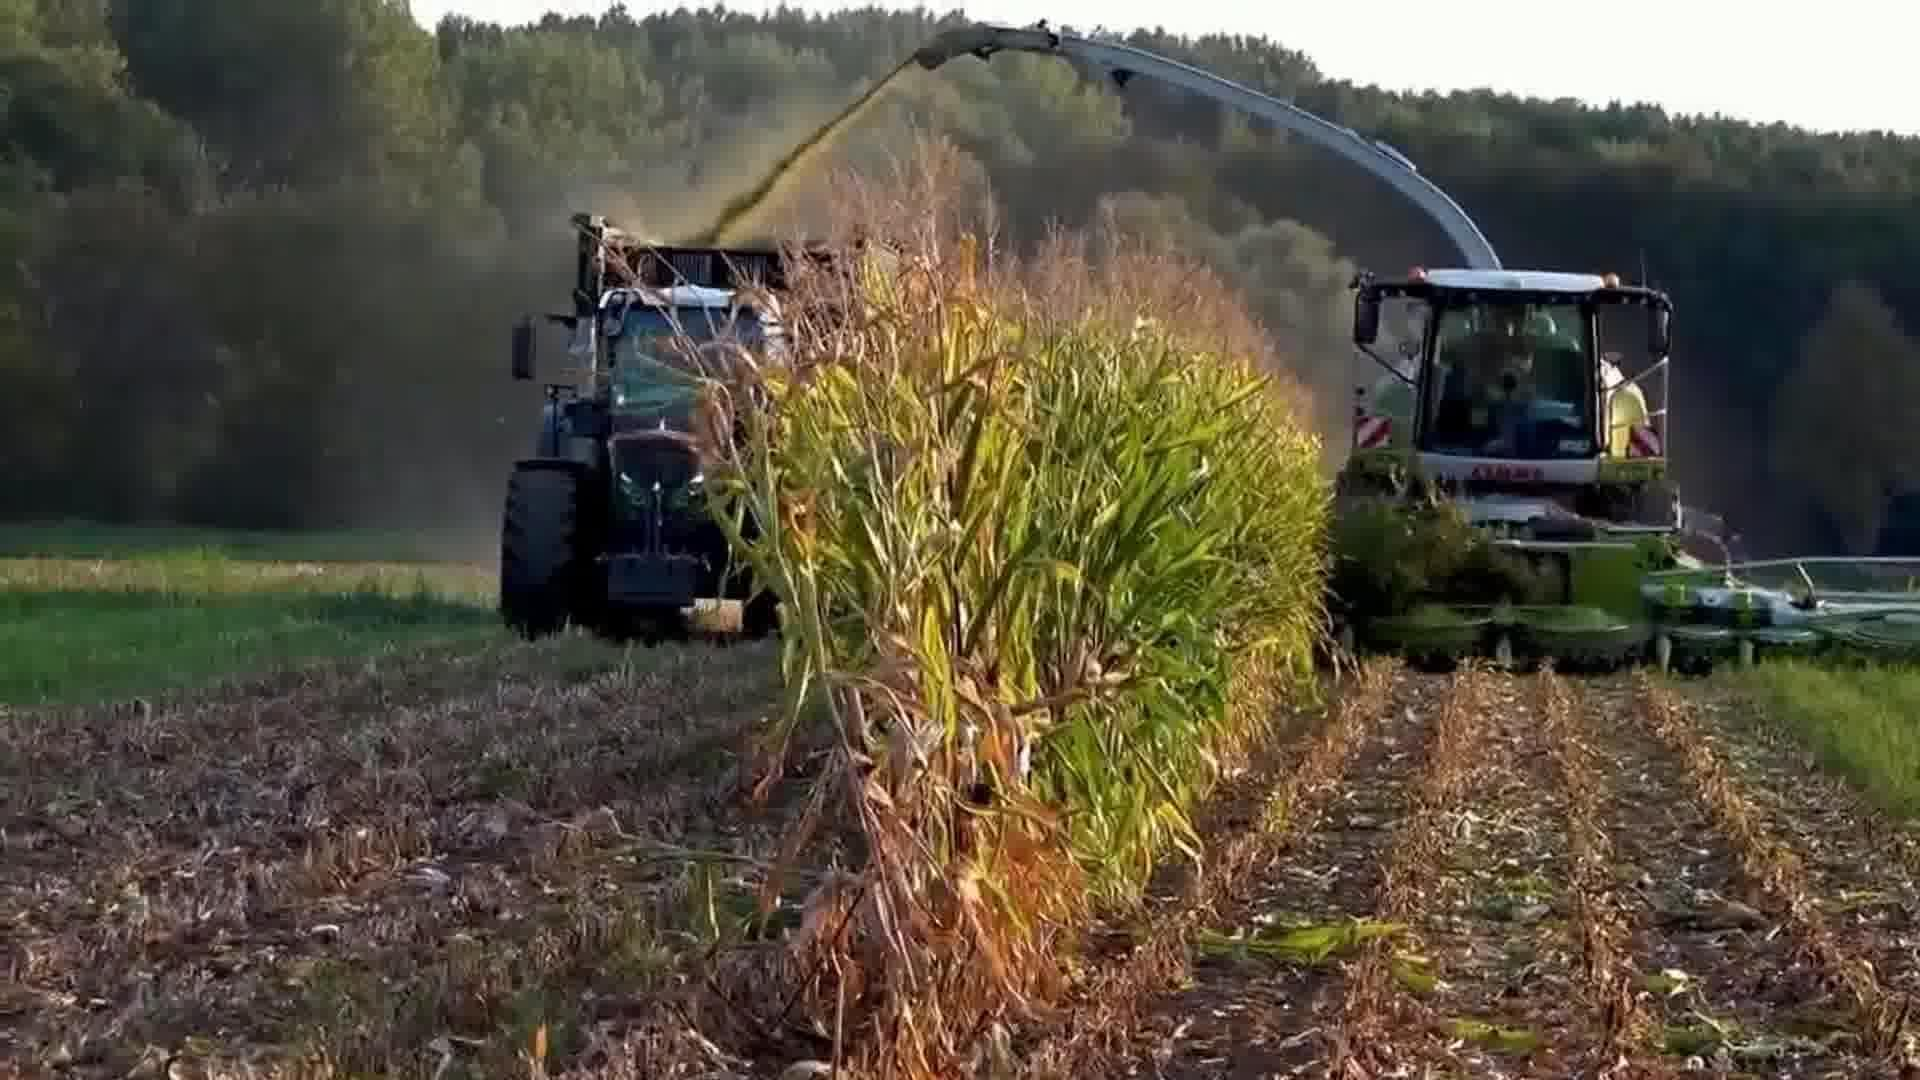combine harvester: (913, 13, 1920, 686)
tractor: (496, 273, 885, 646)
